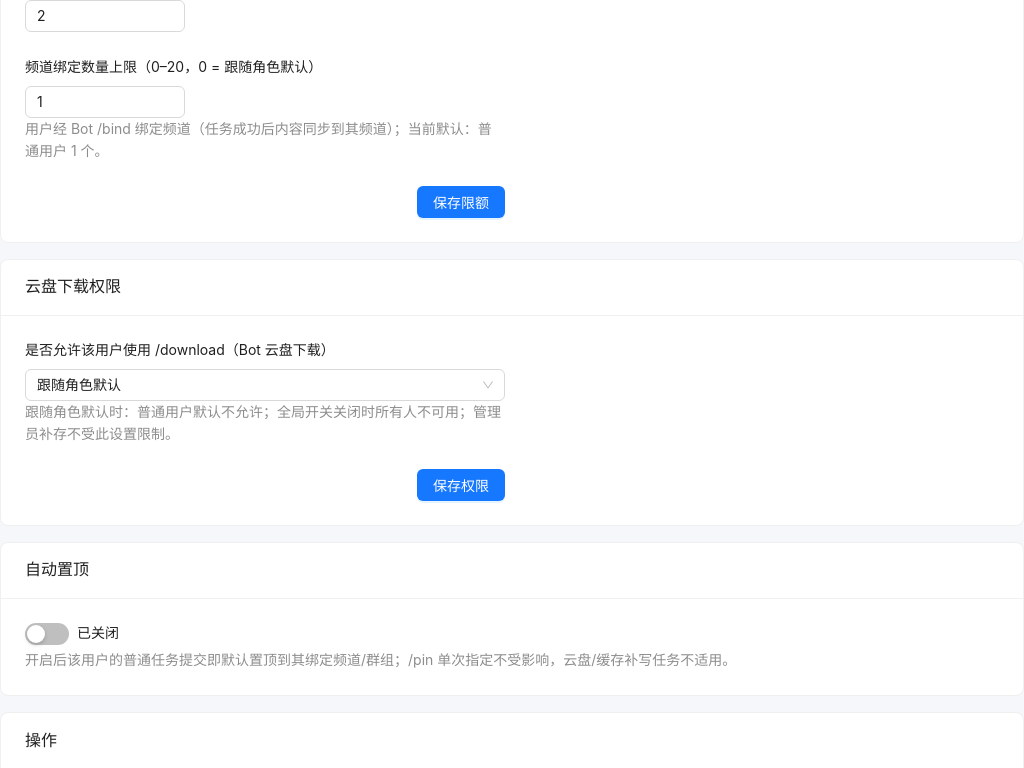
Test: 用户详情页写操作 › 云盘下载权限：切换为允许后提交并失效用户 query
(page scrolled)
Press the mouse on the element showing "跟随角色默认": [265, 384] box x1=25 y1=368 x2=505 y2=400
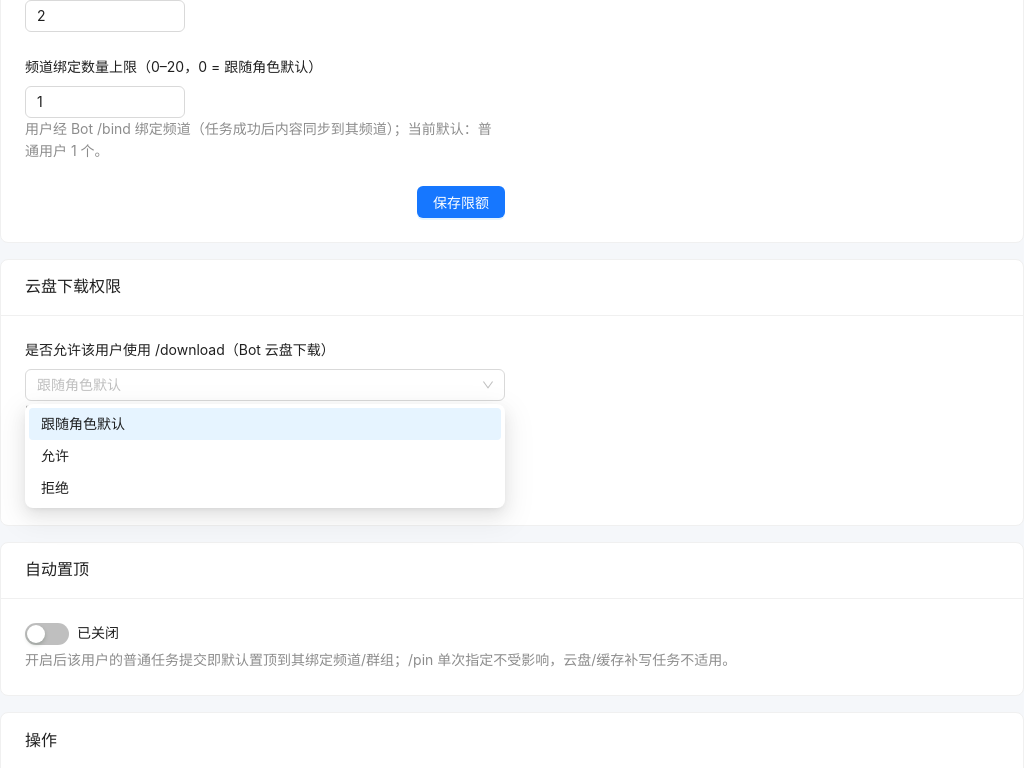
Click the option "允许": [55, 456] box x1=41 y1=447 x2=69 y2=464
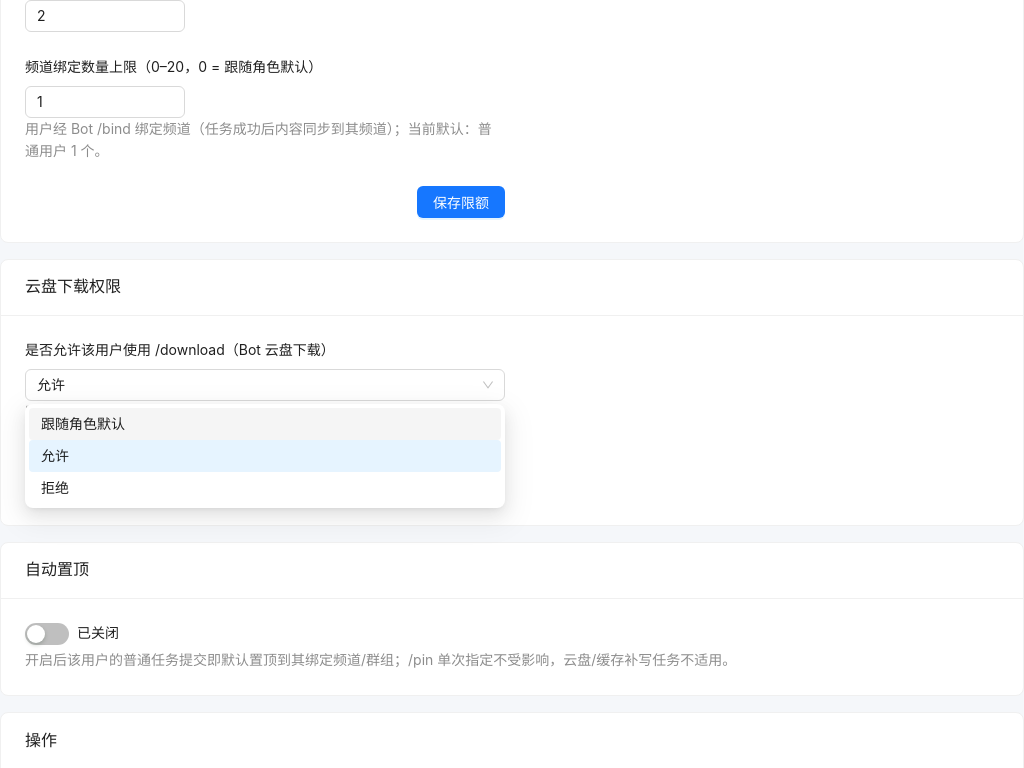
Click the button "保存权限": [461, 484] box x1=417 y1=468 x2=505 y2=500
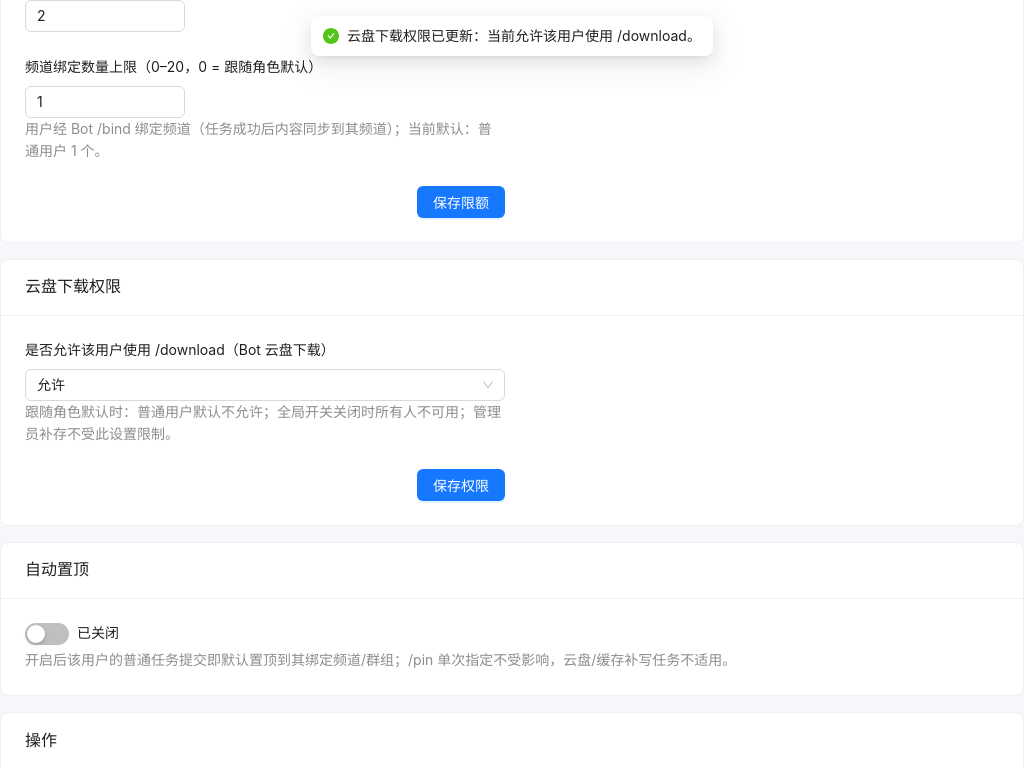
Expected: the text "云盘下载权限已更新：当前允许该用户使用 /download。" is shown, x1=347 y1=25 x2=701 y2=47
